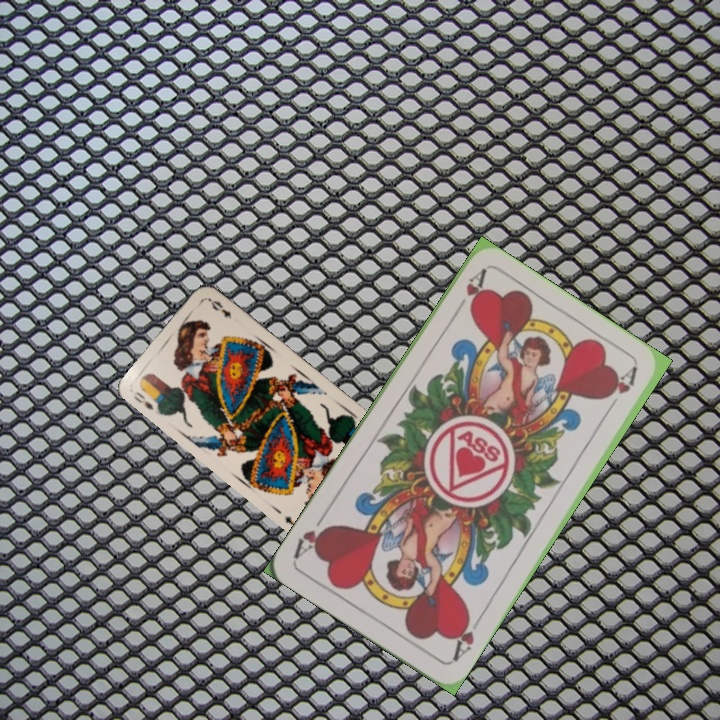EO: (129, 388, 156, 412)
HA: (449, 266, 489, 319), (447, 611, 485, 665)
